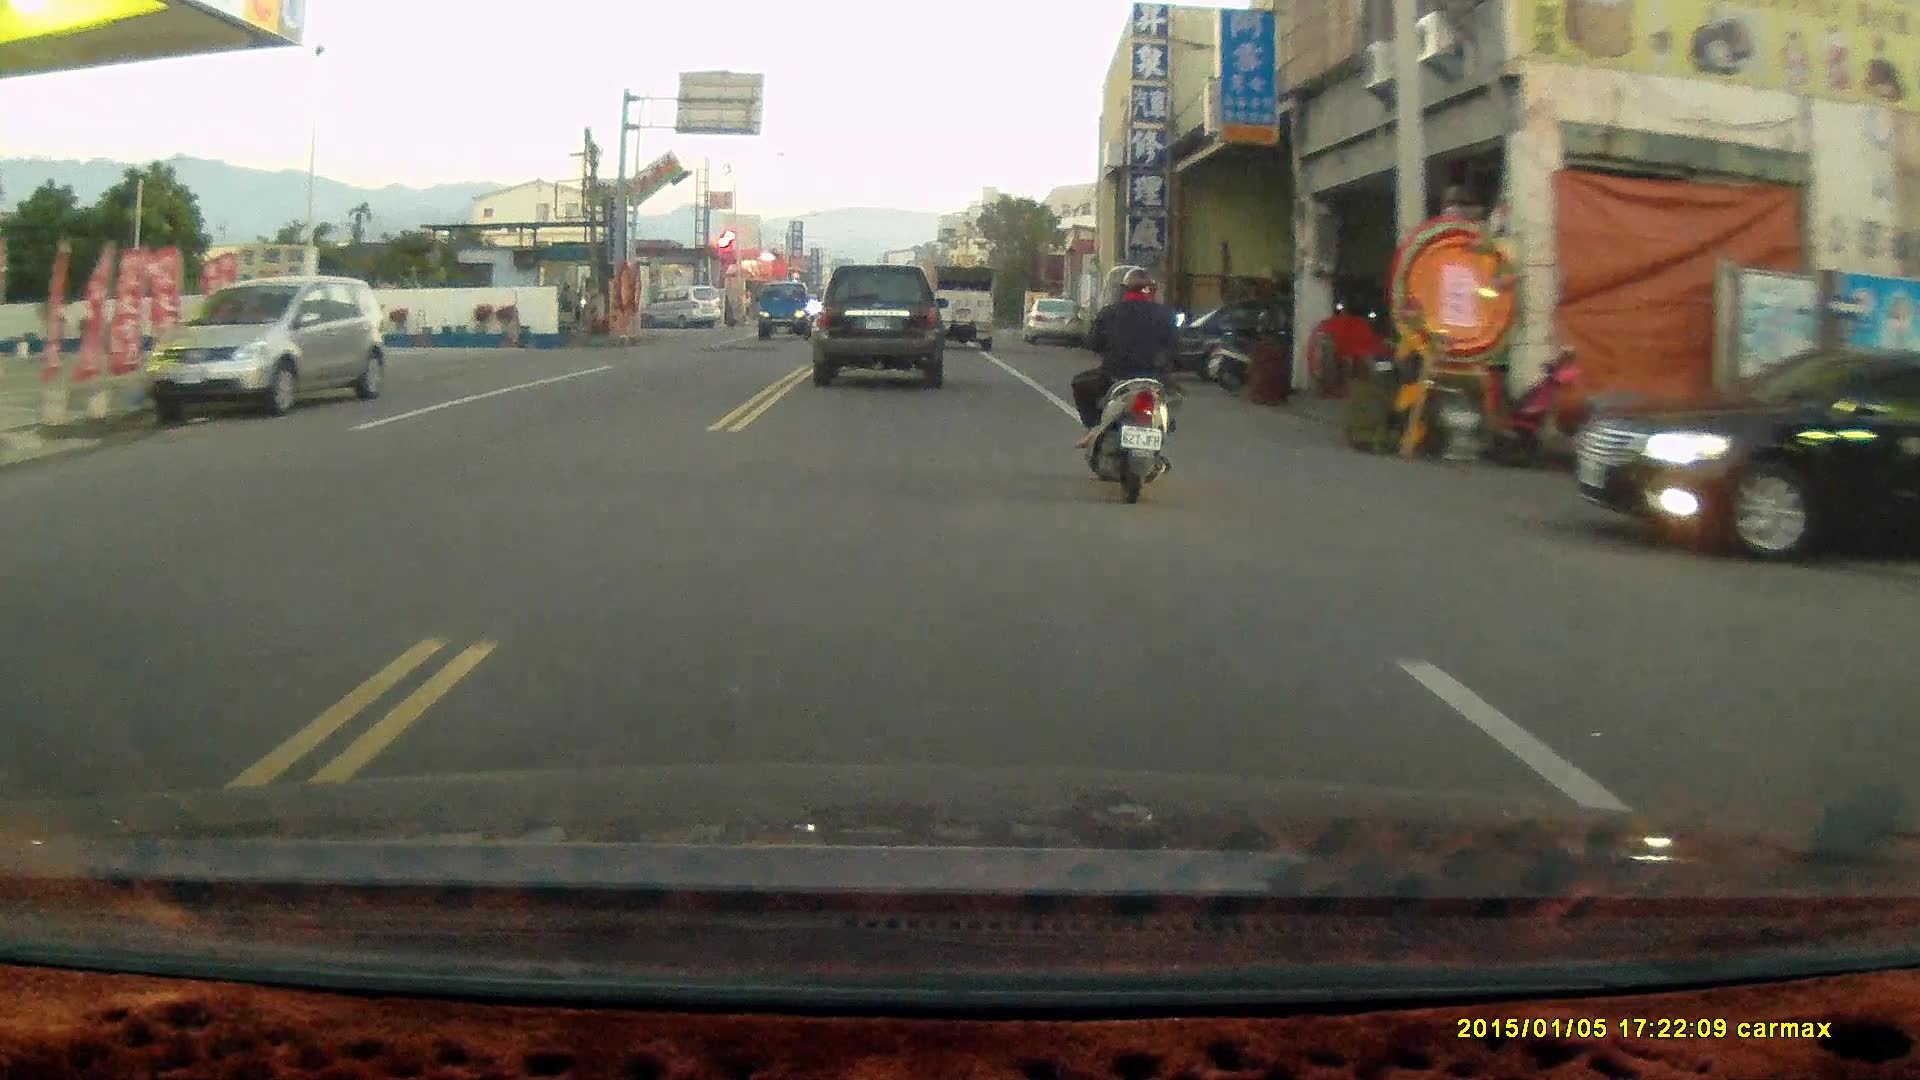rider: (1069, 265, 1181, 505)
vehicle: (1577, 345, 1917, 572), (140, 271, 392, 421), (811, 267, 954, 396), (927, 267, 997, 355), (641, 286, 722, 331), (754, 281, 814, 340), (1022, 300, 1080, 346)
